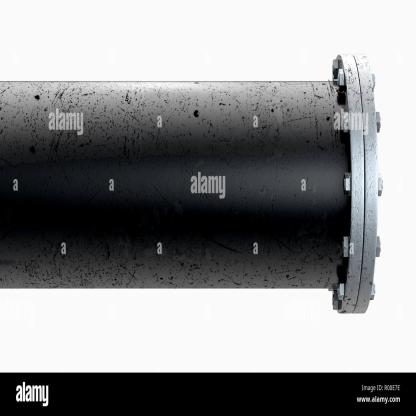PVC: (0, 55, 378, 319)
